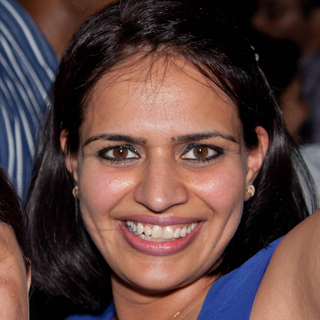eye: (175, 139, 227, 169), (92, 141, 144, 166)
